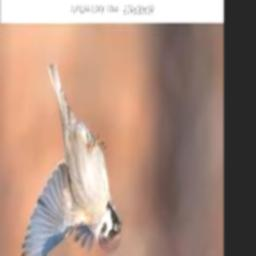Sparrow: (20, 66, 121, 256)
